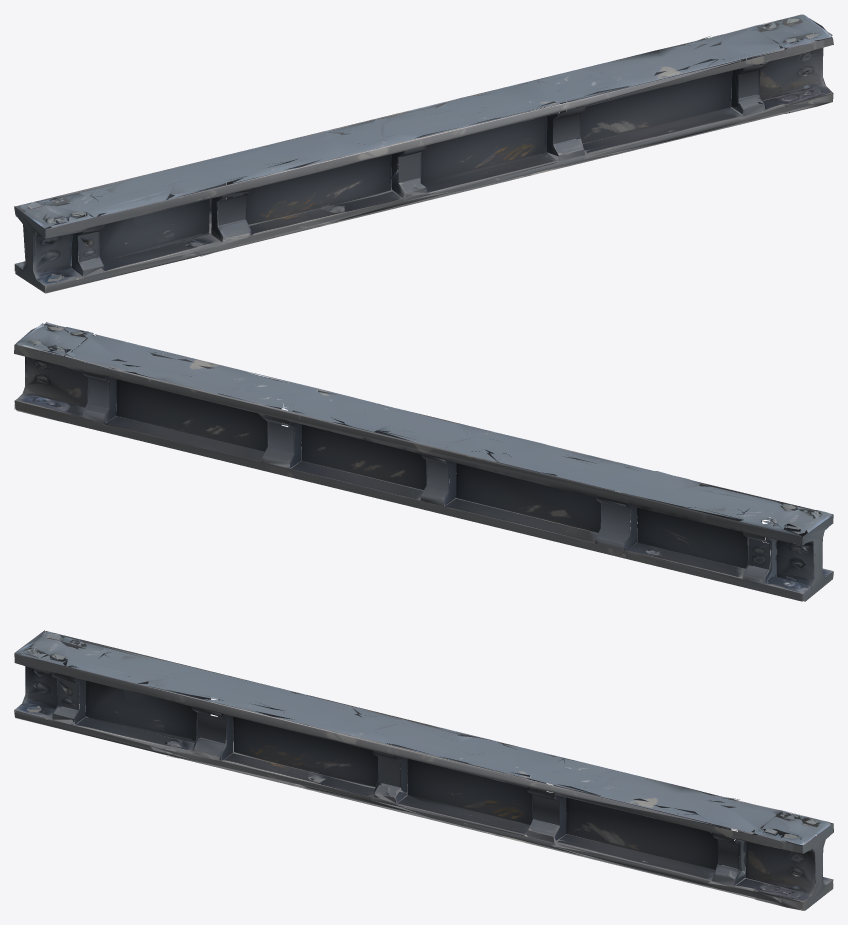
File: beam.glb
3 renders of one model, top to bottom at view 1: azimuth 30°, elevation 25°; view 2: azimuth 150°, elevation 25°; view 3: azimuth 330°, elevation 25°, orthographic.
Parts seen in each view (by area): view 1: Industrial_beam; view 2: Industrial_beam; view 3: Industrial_beam.
Boxes of the visible parts, bbox=[...] form: Industrial_beam: bbox=[14, 14, 833, 293]; Industrial_beam: bbox=[14, 322, 833, 601]; Industrial_beam: bbox=[14, 630, 833, 910].
Bounding box in the file's own units: 4 × 0.3543 × 0.2866.
Materials: 1 (1 with a texture image).
